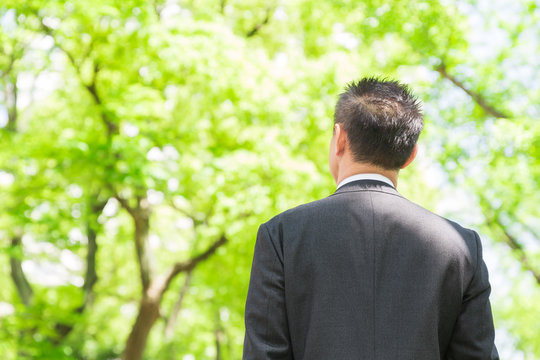male: (242, 75, 503, 360)
